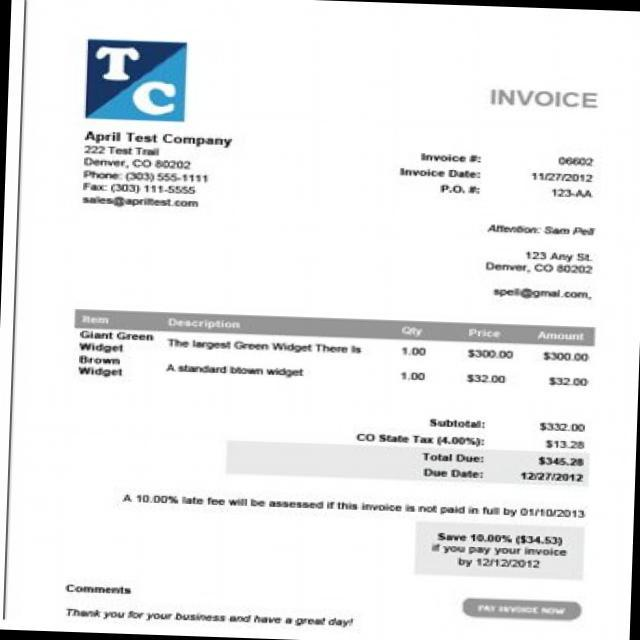due_date: (518, 469, 587, 486)
invoice_date: (522, 168, 598, 184)
invoice_number: (556, 151, 596, 167)
invoice_subtotal: (529, 414, 592, 434)
invoice_total: (536, 454, 590, 468)
item_description: (164, 334, 364, 388)
item_quantity: (392, 342, 431, 386)
item_total_price: (534, 346, 602, 394)
item_unit_price: (463, 344, 519, 391)
supplier_address: (80, 144, 195, 172)
supplier_name: (80, 127, 241, 149)
tax_amount: (541, 435, 586, 452)
